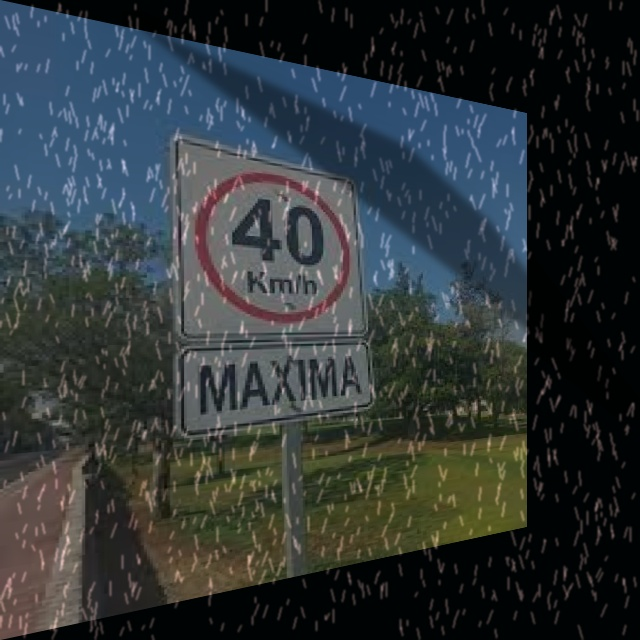Speed_Limit_40: (188, 150, 361, 333)
